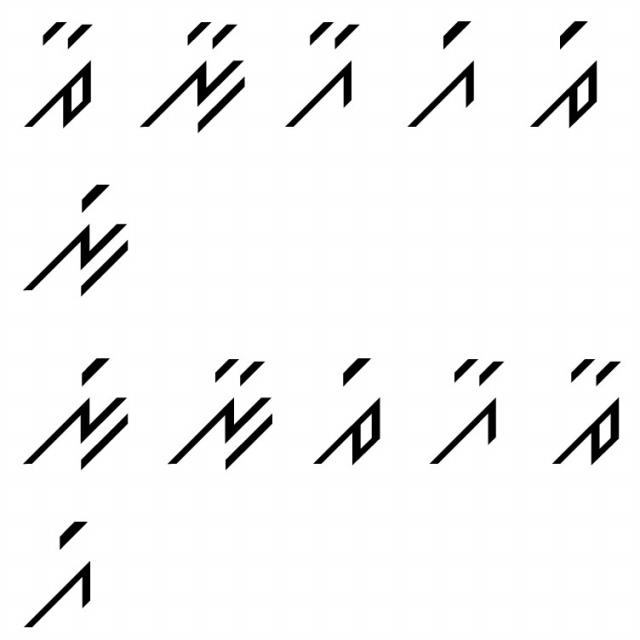gan: (426, 353, 511, 478), (284, 15, 364, 130)
gang: (396, 16, 483, 131), (19, 517, 101, 633)
ngan: (167, 351, 279, 472), (137, 19, 250, 138)
ngang: (19, 346, 132, 474), (21, 174, 132, 296)
tan: (547, 348, 628, 472), (26, 16, 100, 134)
tang: (311, 354, 388, 471), (530, 19, 603, 135)
